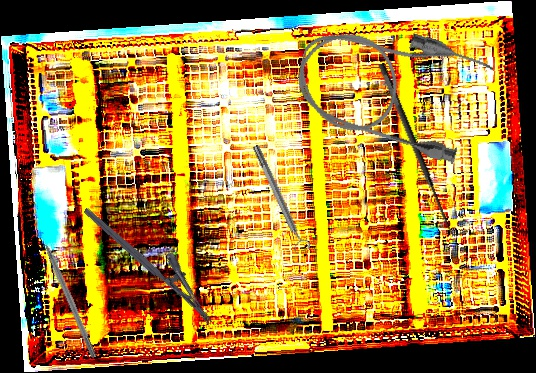Cannula: (285, 5, 497, 168)
Fixation Ring: (247, 141, 313, 256)
Hook Surgical: (375, 56, 470, 242), (36, 227, 99, 359)
Needle Holder: (82, 190, 229, 326)
